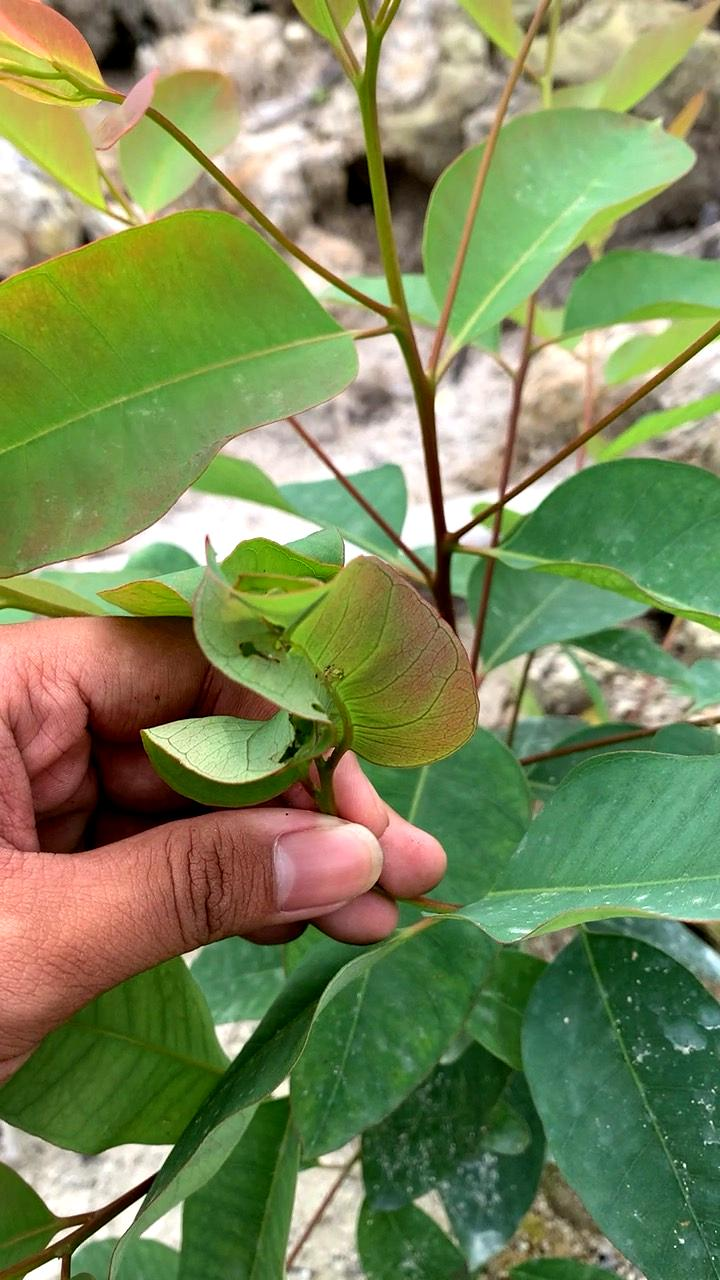Leaf Roller - Leaf: (151, 513, 480, 920)
